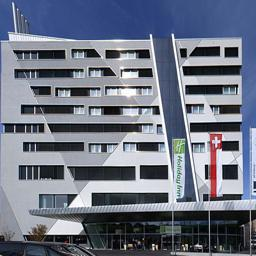building: (0, 28, 248, 256)
